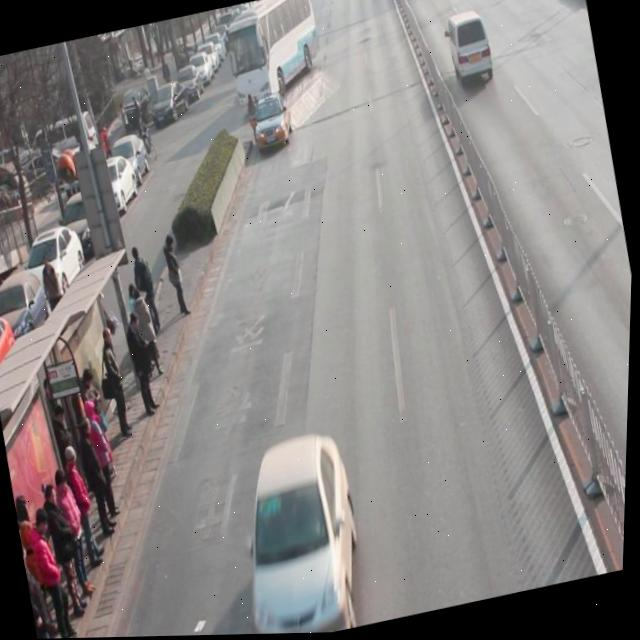car: (224, 425, 382, 636), (248, 90, 299, 155)
truck: (442, 9, 498, 89)
van: (218, 0, 328, 104)
